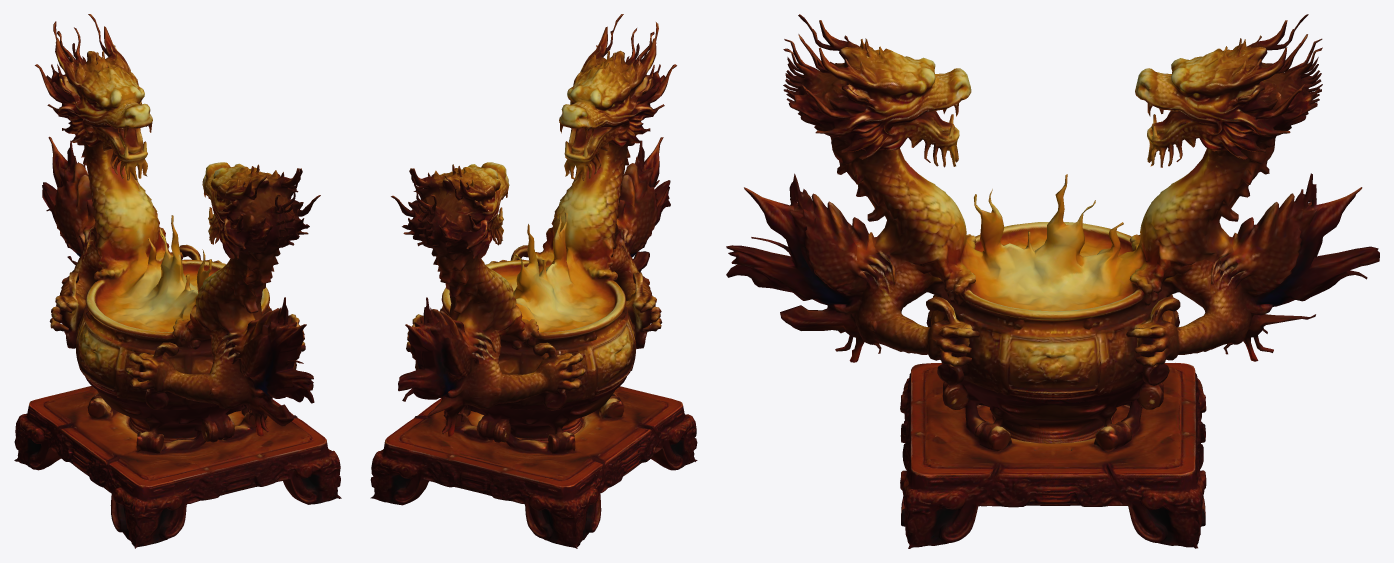
File: classic.fbx
3 views of the same model, side by side, from view 1: azimuth 30°, elevation 25°; view 2: azimuth 150°, elevation 25°; view 3: azimuth 270°, elevation 25° (orthographic). The views are drawn at different scales.
Parts seen in each view (by area): view 1: tripo_node_44af10a3; view 2: tripo_node_44af10a3; view 3: tripo_node_44af10a3.
Boxes of the visible parts, x1,y1,x2,y2 form: tripo_node_44af10a3: (14, 14, 341, 548); tripo_node_44af10a3: (370, 14, 697, 548); tripo_node_44af10a3: (726, 14, 1379, 548).
Size of the model in its own units: 0.4414 by 0.7852 by 0.9993.
1 material, 1 textured.
